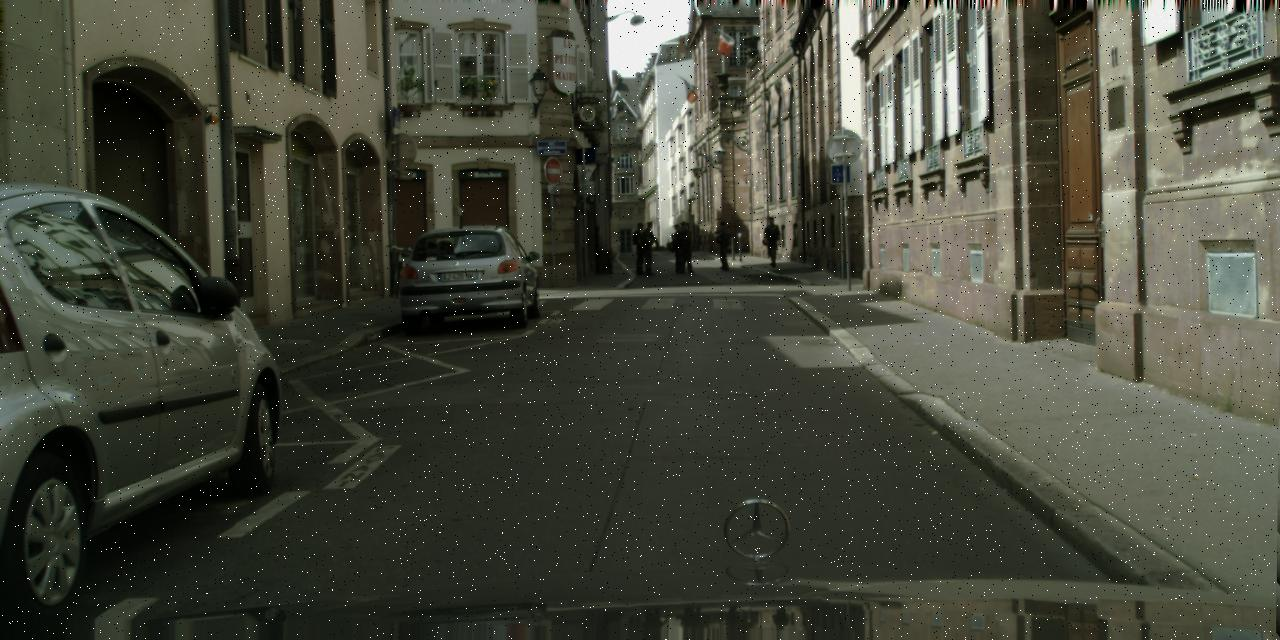ped: (638, 220, 660, 274), (629, 222, 650, 274), (674, 221, 695, 272), (713, 220, 733, 270), (762, 217, 782, 266), (667, 225, 686, 272)
